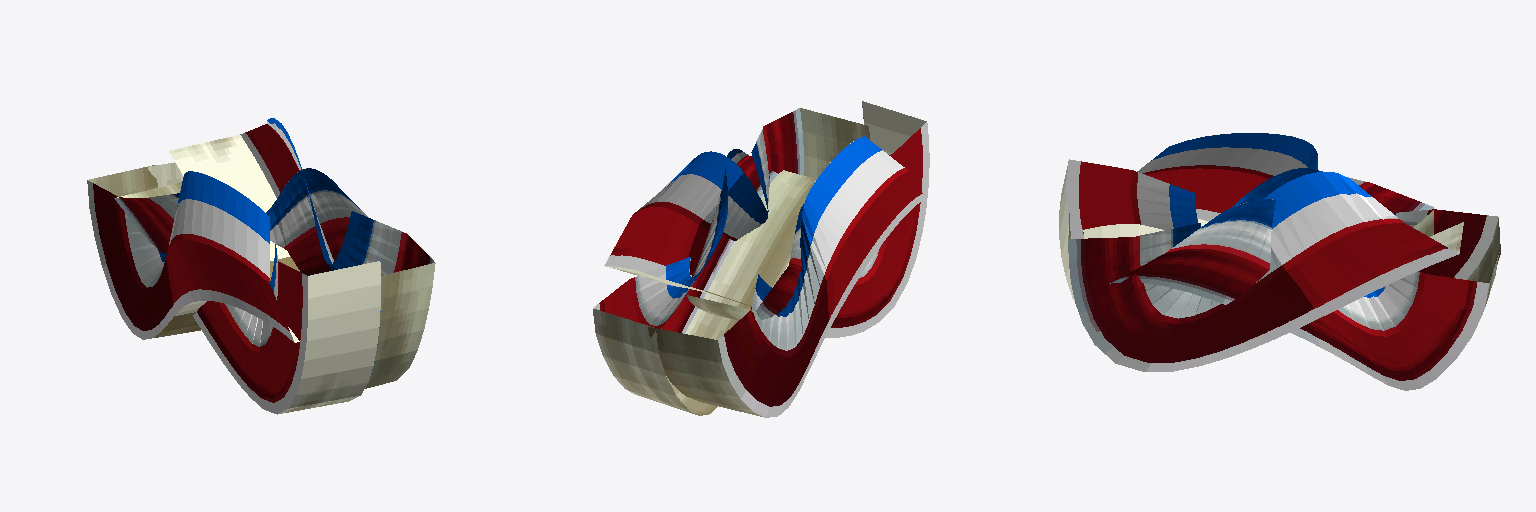
3 views of the same model, side by side, from view 1: azimuth 30°, elevation 25°; view 2: azimuth 150°, elevation 25°; view 3: azimuth 270°, elevation 25° (orthographic).
Visible parts, largest first — view 1: polygon3, polygon2, polygon0, polygon1; view 2: polygon3, polygon1, polygon0, polygon2; view 3: polygon0, polygon1, polygon3, polygon2.
Boxes of the visible parts, x1,y1,x2,y2 form: polygon3: [87, 165, 299, 342]; polygon2: [114, 182, 380, 414]; polygon0: [169, 118, 435, 388]; polygon1: [148, 162, 368, 275]; polygon3: [648, 136, 925, 417]; polygon1: [593, 149, 816, 415]; polygon0: [604, 108, 869, 306]; polygon2: [686, 101, 929, 337]; polygon0: [1068, 171, 1463, 371]; polygon1: [1110, 199, 1499, 390]; polygon3: [1083, 133, 1500, 282]; polygon2: [1059, 159, 1433, 301].
Size of the model in its own units: 6.83 by 8.97 by 16.81.
Materials: 1 (1 with a texture image).